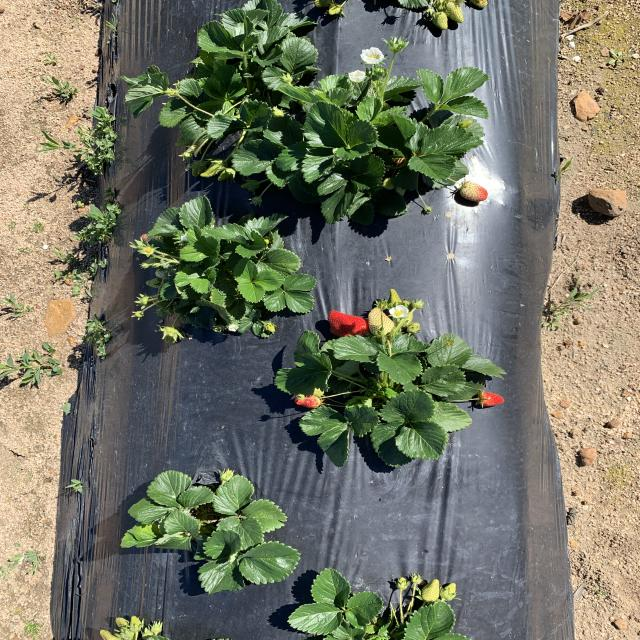unripe: (326, 311, 374, 340), (474, 391, 505, 406), (294, 394, 320, 408)
